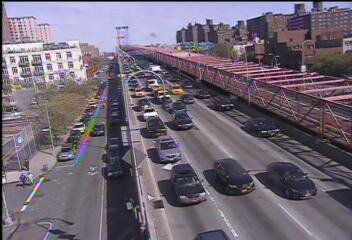neg: (172, 106, 187, 126), (122, 56, 134, 72), (66, 144, 76, 158), (299, 40, 309, 53), (186, 54, 194, 65), (90, 57, 98, 67)
pos: (25, 172, 35, 186), (18, 172, 28, 186), (22, 157, 31, 170)
